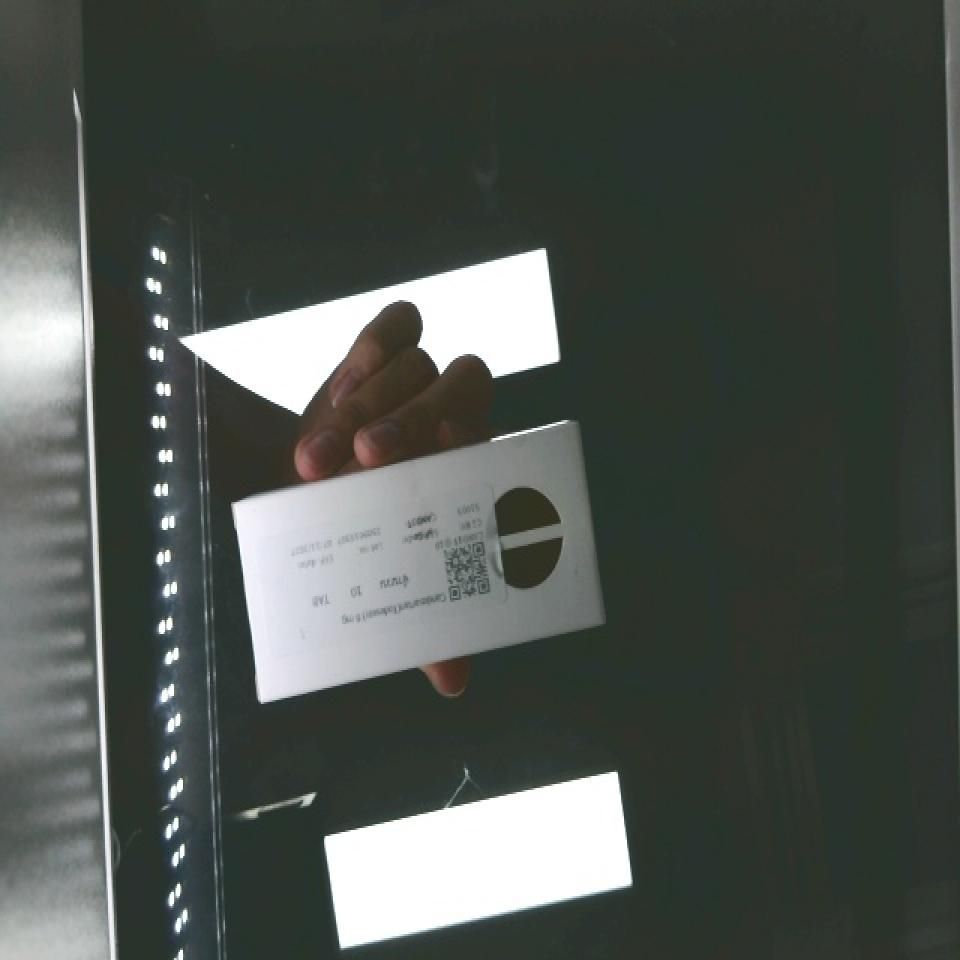medicine_box: (211, 417, 619, 706)
qr_code: (429, 517, 509, 615)
